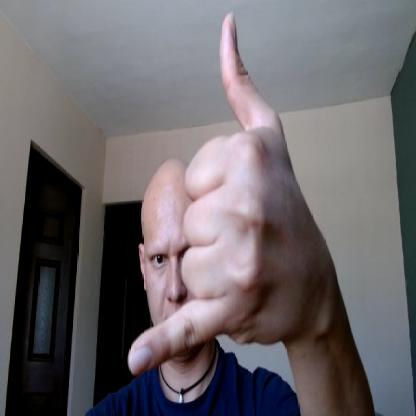Y: (128, 11, 297, 373)
